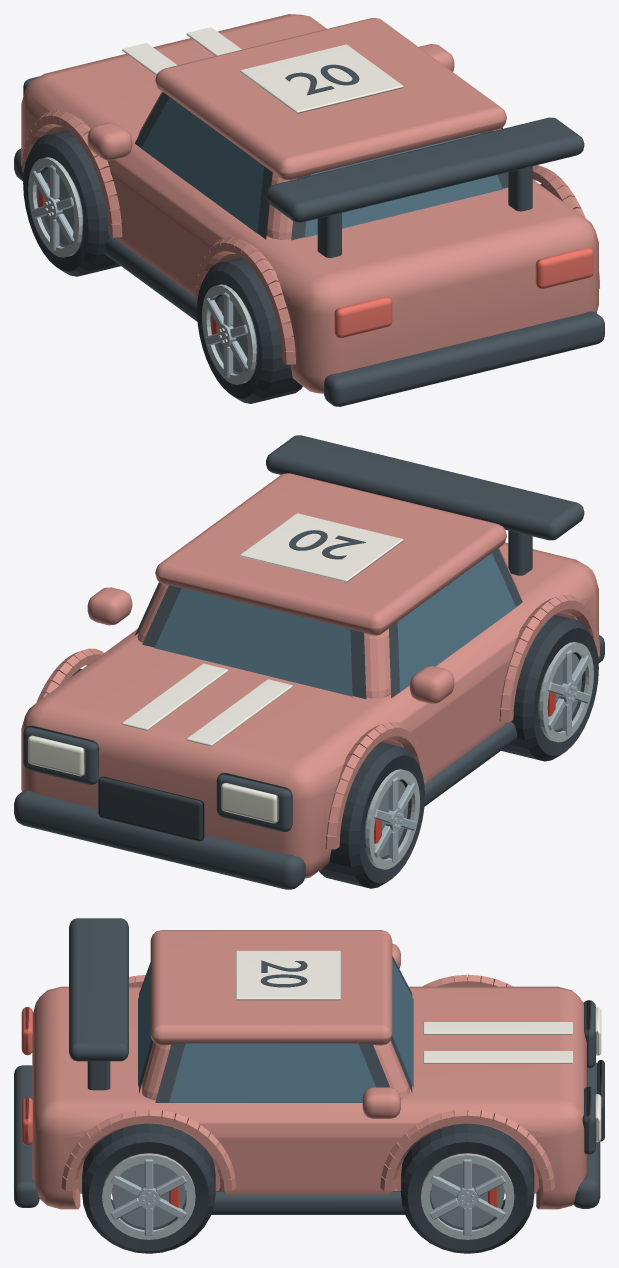
Rendered from car_speed.glb.
The picture shows the model from 3 angles, top to bottom: view 1: azimuth 30°, elevation 25°; view 2: azimuth 150°, elevation 25°; view 3: azimuth 270°, elevation 25°; orthographic projection. The views are drawn at different scales.
Parts seen in each view (by area): view 1: Body, WheelMesh.002, WheelMesh; view 2: Body, WheelMesh, WheelMesh.002; view 3: Body, WheelMesh.003, WheelMesh.001.
Boxes of the visible parts, x1,y1,x2,y2 form: Body: [14, 14, 604, 406]; WheelMesh.002: [197, 257, 302, 403]; WheelMesh: [23, 130, 120, 276]; Body: [14, 435, 604, 889]; WheelMesh: [319, 742, 424, 888]; WheelMesh.002: [501, 614, 598, 761]; Body: [14, 918, 604, 1214]; WheelMesh.003: [82, 1123, 215, 1253]; WheelMesh.001: [401, 1123, 534, 1253].
Bounding box in the file's own units: 2.64 × 1.62 × 4.16.
